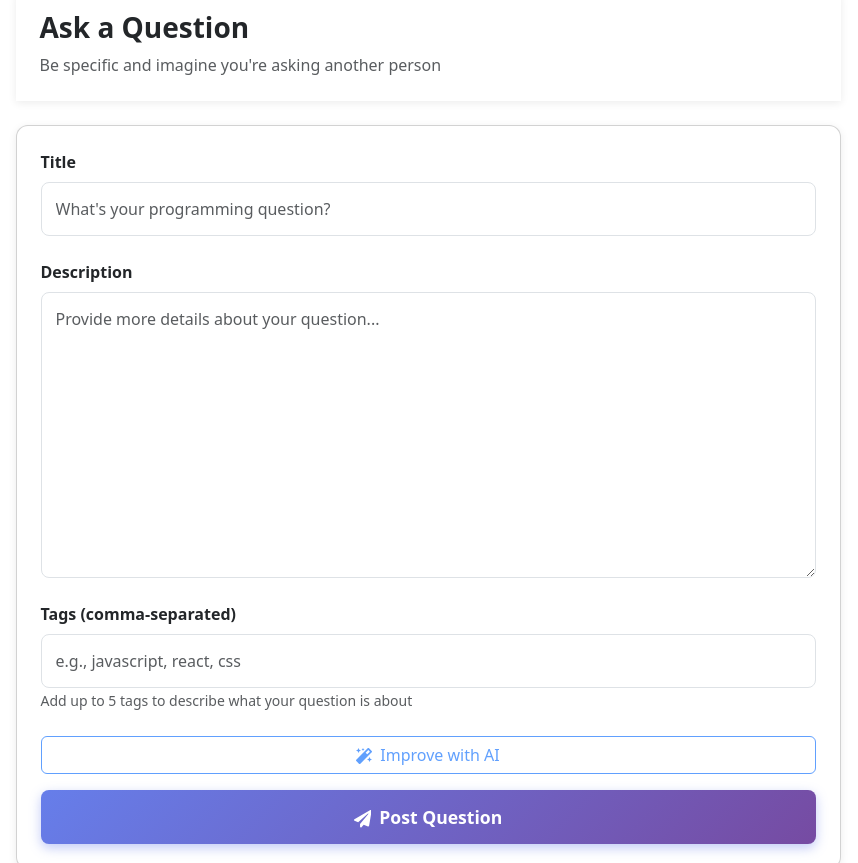
PostQuestion Page › AI question improver › shows an error and recovers when the AI call fails
The width and height of the screenshot is (858, 863).
In the field with placeholder "What's your programming question?": (428, 209) [40,182,816,236], type "my title"
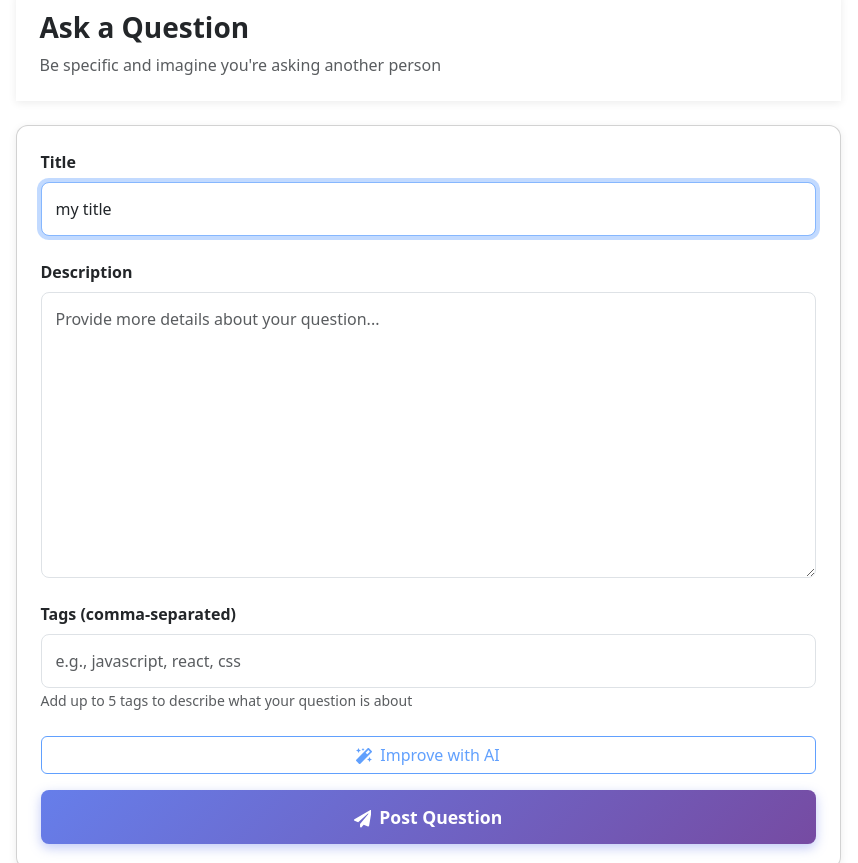
In the text box with placeholder "Provide more details about your question...": (428, 435) [40,292,816,578], type "my description"
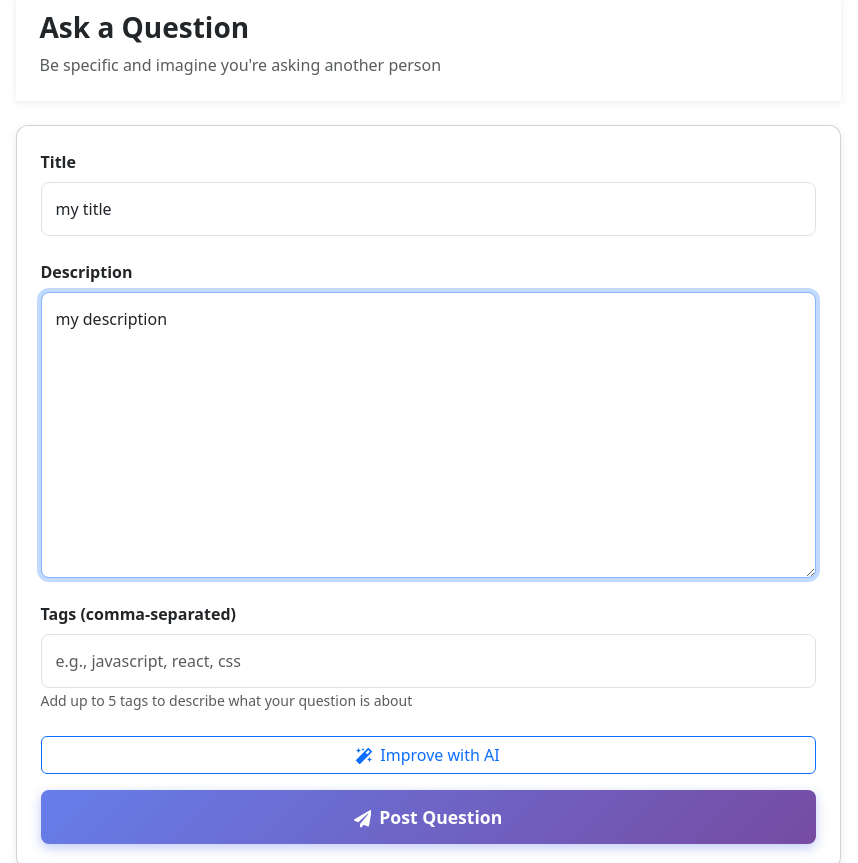
In the field with placeholder "e.g., javascript, react, css": (428, 660) [40,634,816,688], type "js"
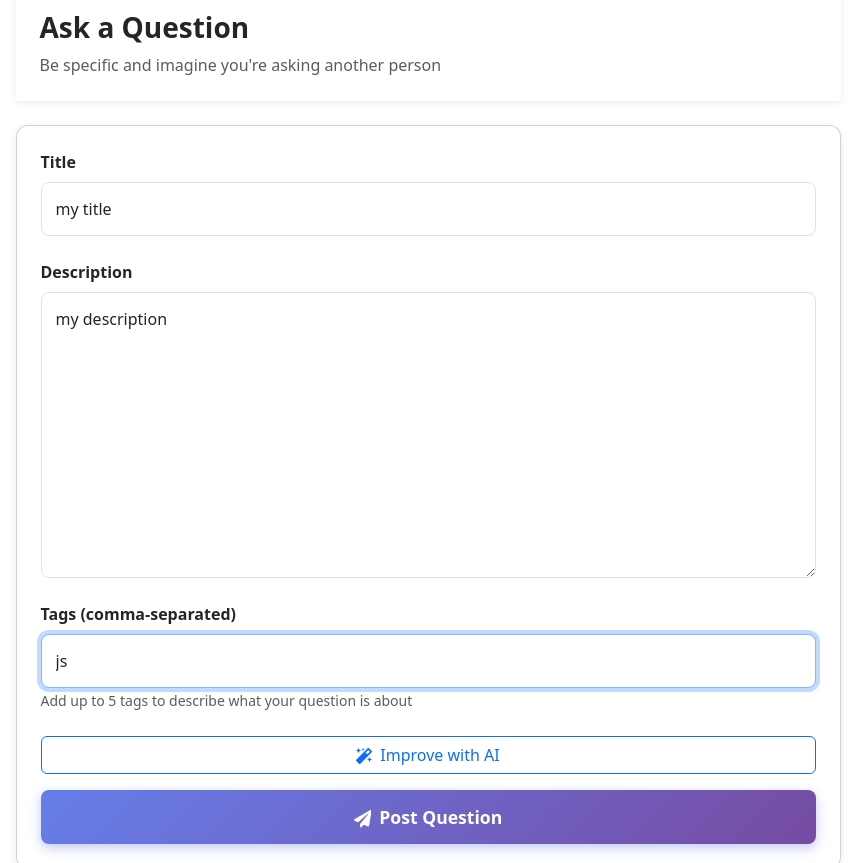
Click the button "Improve with AI": (428, 754) [40,736,816,774]
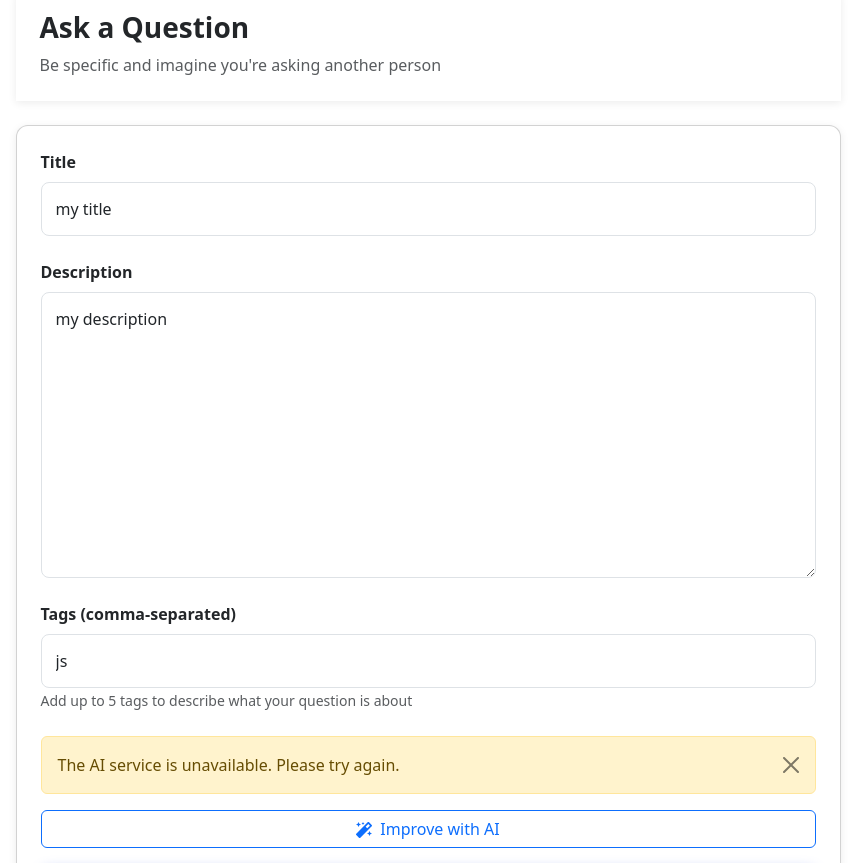
Expected: the button "Improve with AI" is enabled, [40,810,816,848]
Expected: the text "The AI service is unavailable. Please try again." is shown, [40,736,816,794]
